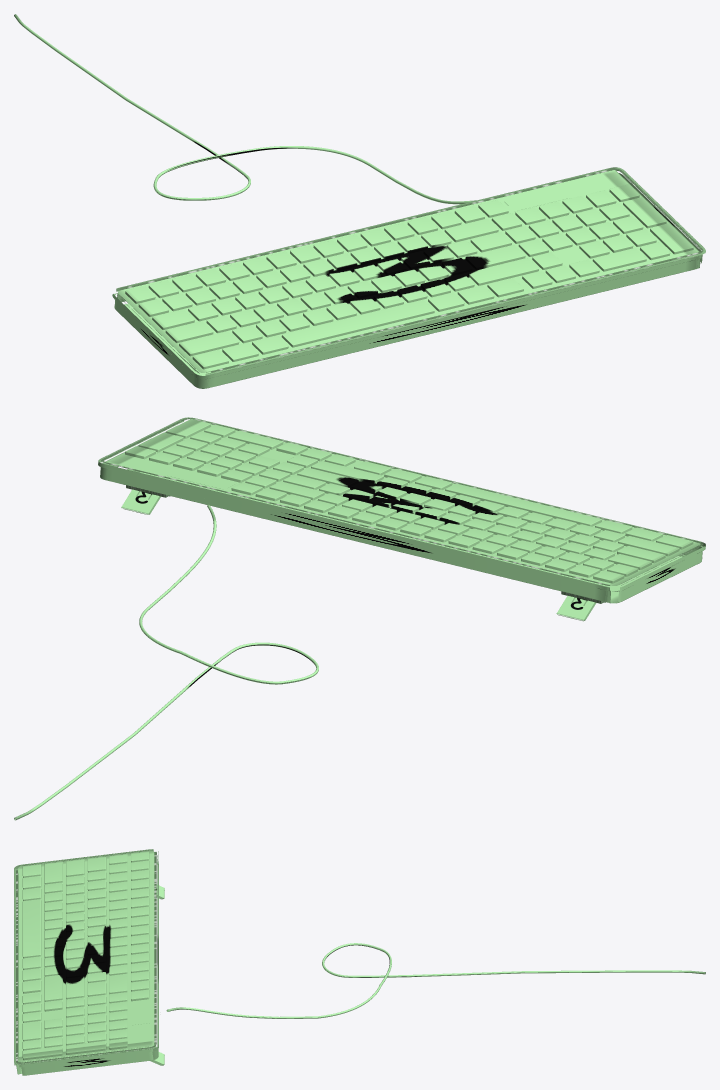
File: Keyboard.fbx
The picture shows the model from 3 angles, top to bottom: view 1: azimuth 30°, elevation 25°; view 2: azimuth 150°, elevation 25°; view 3: azimuth 270°, elevation 25°; orthographic projection. The views are drawn at different scales.
Parts seen in each view (by area): view 1: Base, Group01, Line001, Space, Shift_R, Genius_log, Enter, Shift_L, Num0, Back_Space, Insert, Num_ (+3 smaller); view 2: Base, Group01, Line001, Space, Shift_R; view 3: Base, Group01, Line001, Space, Shift_R, Genius_log, Num_Enter, Num_, Shift_L, Enter, Num0, Insert.
Boxes of the visible parts, left/top/right/bottom form: Base: left=112, top=167, right=705, bottom=388; Group01: left=138, top=184, right=639, bottom=316; Line001: left=14, top=14, right=476, bottom=204; Space: left=281, top=300, right=434, bottom=347; Shift_R: left=467, top=258, right=538, bottom=285; Genius_log: left=502, top=186, right=569, bottom=211; Enter: left=465, top=245, right=525, bottom=269; Shift_L: left=179, top=331, right=239, bottom=356; Num0: left=592, top=248, right=646, bottom=271; Back_Space: left=444, top=219, right=498, bottom=242; Insert: left=505, top=220, right=558, bottom=243; Num_: left=623, top=197, right=666, bottom=228; Base: left=98, top=417, right=705, bottom=603; Group01: left=121, top=446, right=638, bottom=621; Line001: left=14, top=504, right=318, bottom=820; Space: left=445, top=483, right=601, bottom=526; Shift_R: left=311, top=461, right=383, bottom=483; Base: left=14, top=849, right=158, bottom=1075; Group01: left=44, top=854, right=164, bottom=1065; Line001: left=166, top=943, right=705, bottom=1018; Space: left=22, top=899, right=41, bottom=958; Shift_R: left=44, top=974, right=62, bottom=1001; Genius_log: left=131, top=1001, right=150, bottom=1025; Num_Enter: left=22, top=1046, right=62, bottom=1060; Num_: left=66, top=1041, right=106, bottom=1054; Shift_L: left=44, top=861, right=62, bottom=884; Enter: left=66, top=976, right=84, bottom=999; Num0: left=22, top=1021, right=41, bottom=1041; Insert: left=87, top=994, right=106, bottom=1014.
Size of the model in its own units: 412 by 29.3 by 603.
